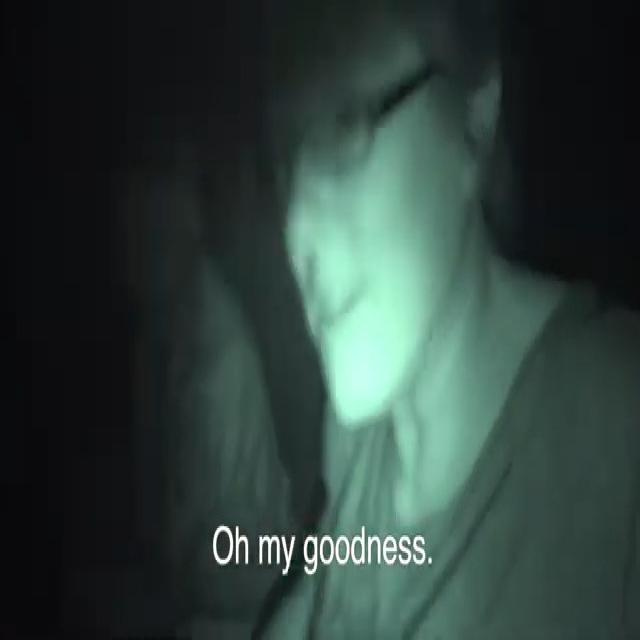human: (250, 0, 640, 640)
